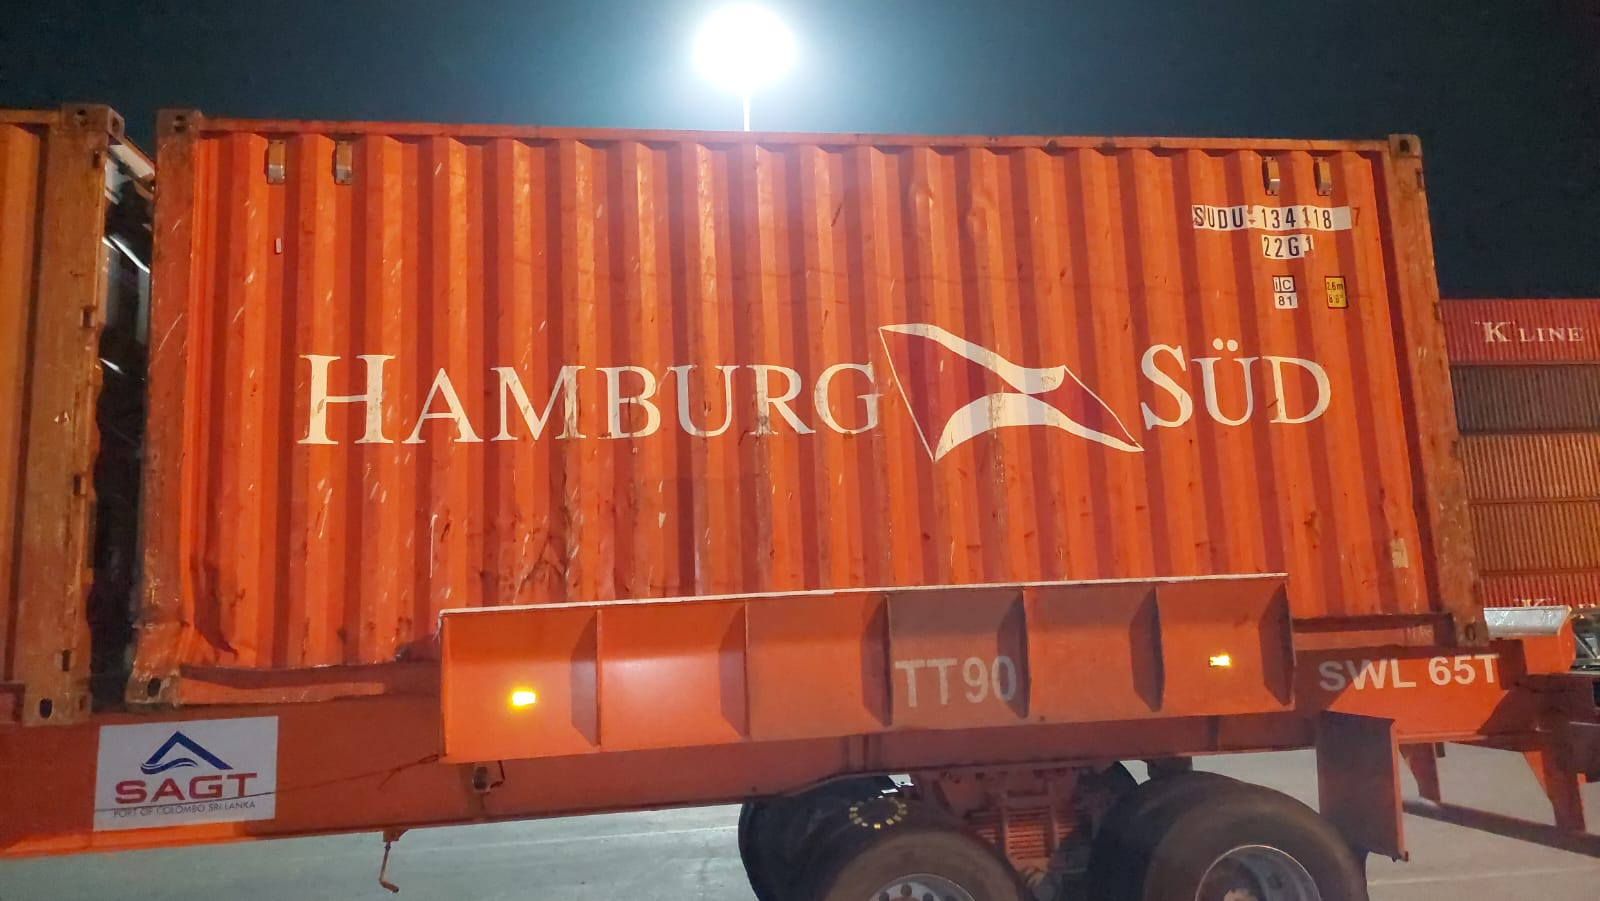dented: (126, 540, 276, 696), (436, 485, 627, 585)
